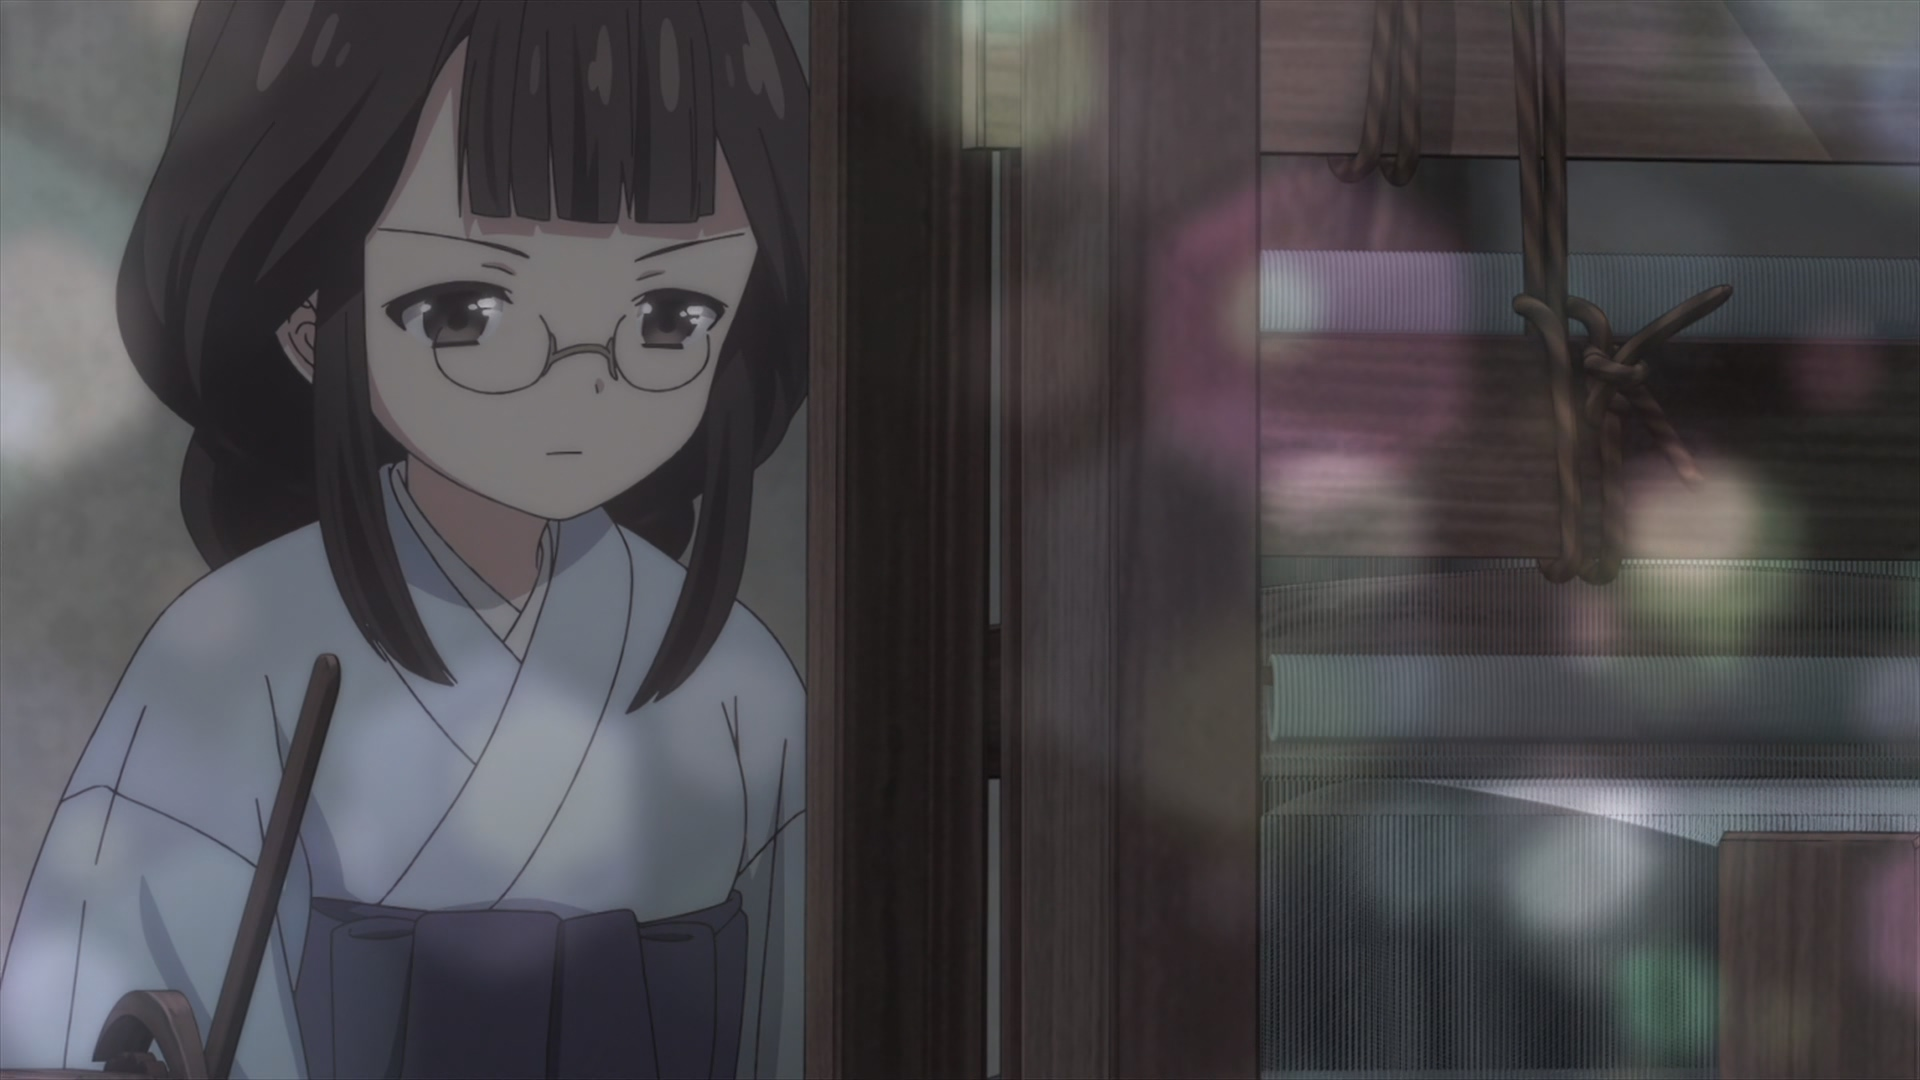其他: (1, 1, 804, 1080)
